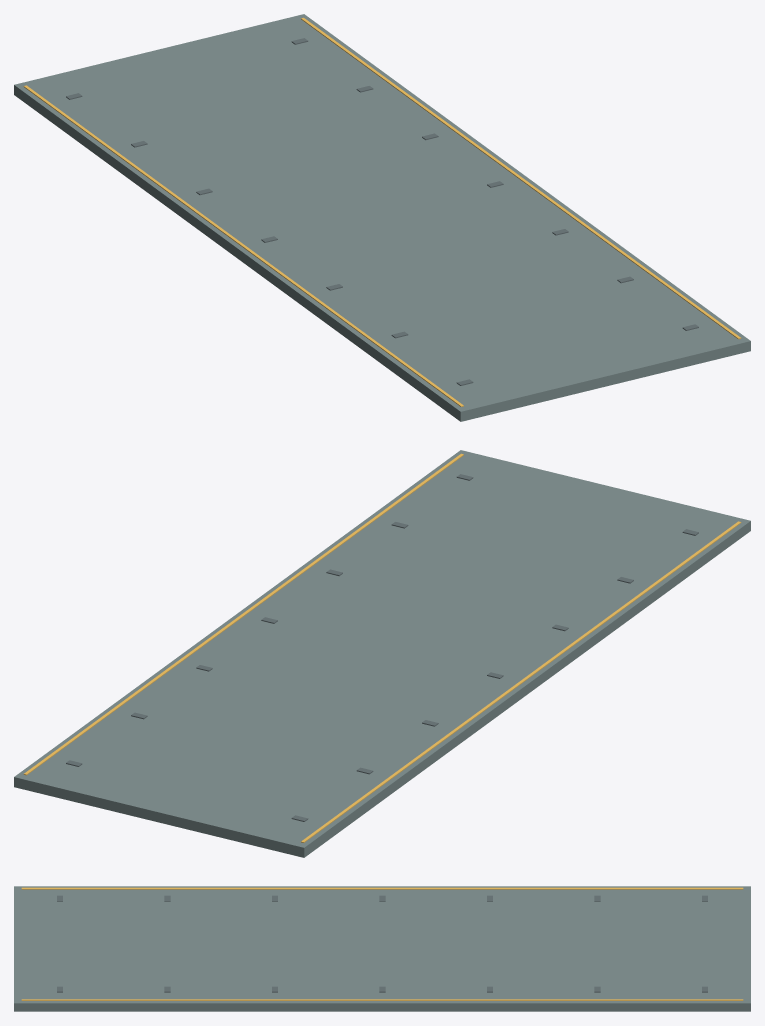
Rendered from lift_deck.glb.
3 views of the same model, one above another, from view 1: azimuth 30°, elevation 25°; view 2: azimuth 150°, elevation 25°; view 3: azimuth 270°, elevation 25° (orthographic). The views are drawn at different scales.
Visible parts, largest first — view 1: MESH_lift_deck, MESH_deck_edge_-8.6, MESH_deck_edge_8.6; view 2: MESH_lift_deck, MESH_deck_edge_-8.6, MESH_deck_edge_8.6; view 3: MESH_lift_deck, MESH_deck_edge_-8.6, MESH_deck_edge_8.6.
Part boxes in pixels (<box>): MESH_lift_deck: <box>14,14,750,421</box>; MESH_deck_edge_-8.6: <box>23,85,463,406</box>; MESH_deck_edge_8.6: <box>301,17,741,339</box>; MESH_lift_deck: <box>14,450,750,857</box>; MESH_deck_edge_-8.6: <box>301,521,741,842</box>; MESH_deck_edge_8.6: <box>23,453,463,775</box>; MESH_lift_deck: <box>14,886,750,1011</box>; MESH_deck_edge_-8.6: <box>21,887,743,889</box>; MESH_deck_edge_8.6: <box>21,999,743,1000</box>.
Size of the model in its own units: 18 by 0.68 by 48.
